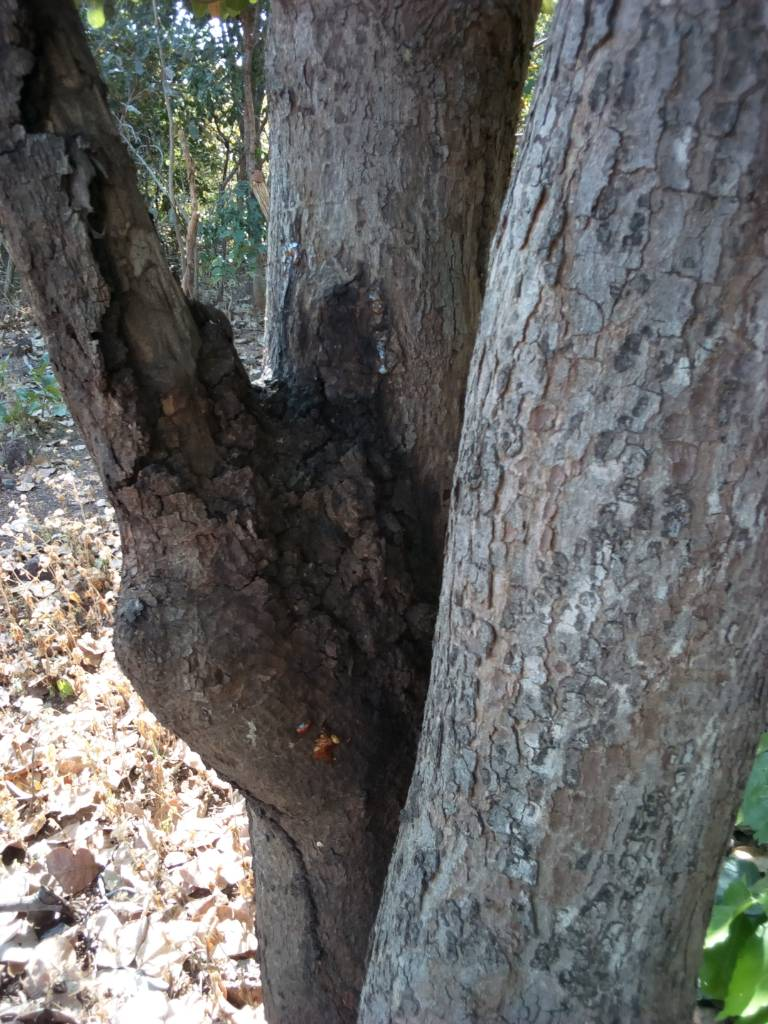Termites: (215, 308, 443, 675)
